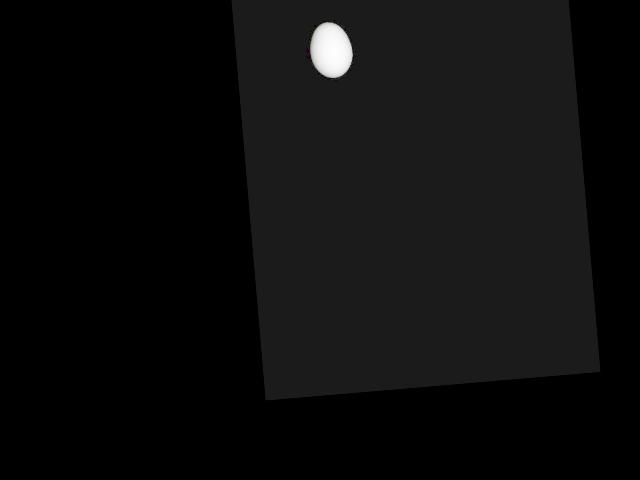egg: (308, 21, 354, 80)
